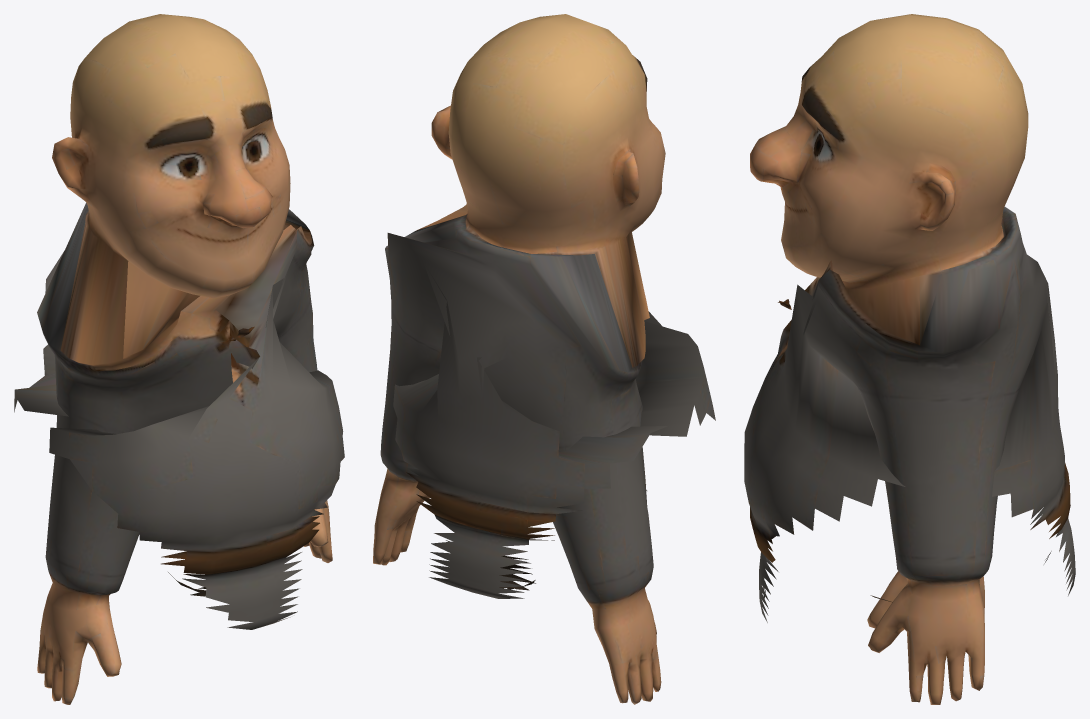
The model's file is dwarf-body.glb.
The picture shows the model from 3 angles, left to right: view 1: azimuth 30°, elevation 25°; view 2: azimuth 150°, elevation 25°; view 3: azimuth 270°, elevation 25°; orthographic projection. The views are drawn at different scales.
Visible parts, largest first — view 1: dwarf-body; view 2: dwarf-body; view 3: dwarf-body.
Boxes of the visible parts, left/top/right/bottom form: dwarf-body: left=14, top=14, right=344, bottom=704; dwarf-body: left=373, top=14, right=715, bottom=704; dwarf-body: left=744, top=14, right=1075, bottom=704.
Bounding box in the file's own units: 0.33 × 0.6972 × 0.3053.
Materials: 1 (1 with a texture image).
